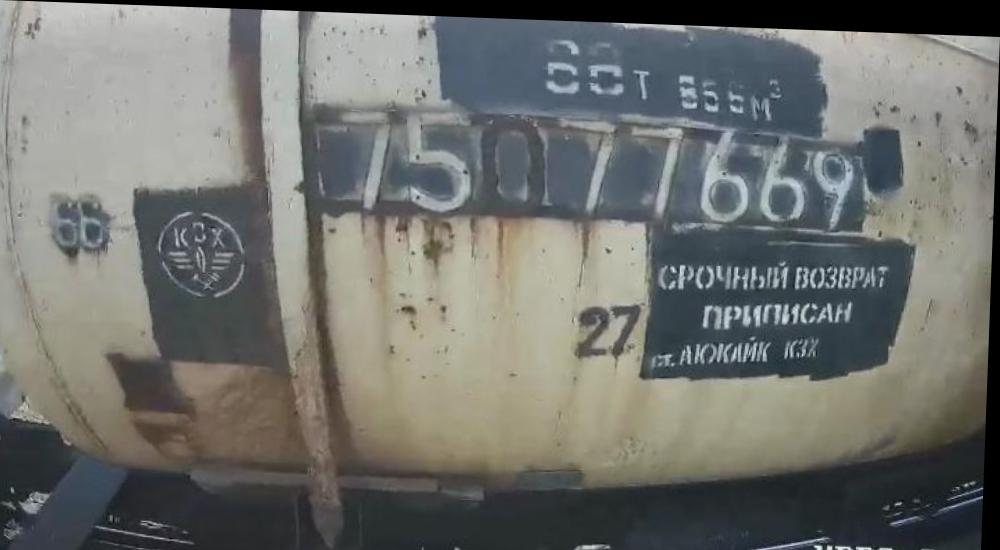Wagon-number: (329, 95, 865, 228)
